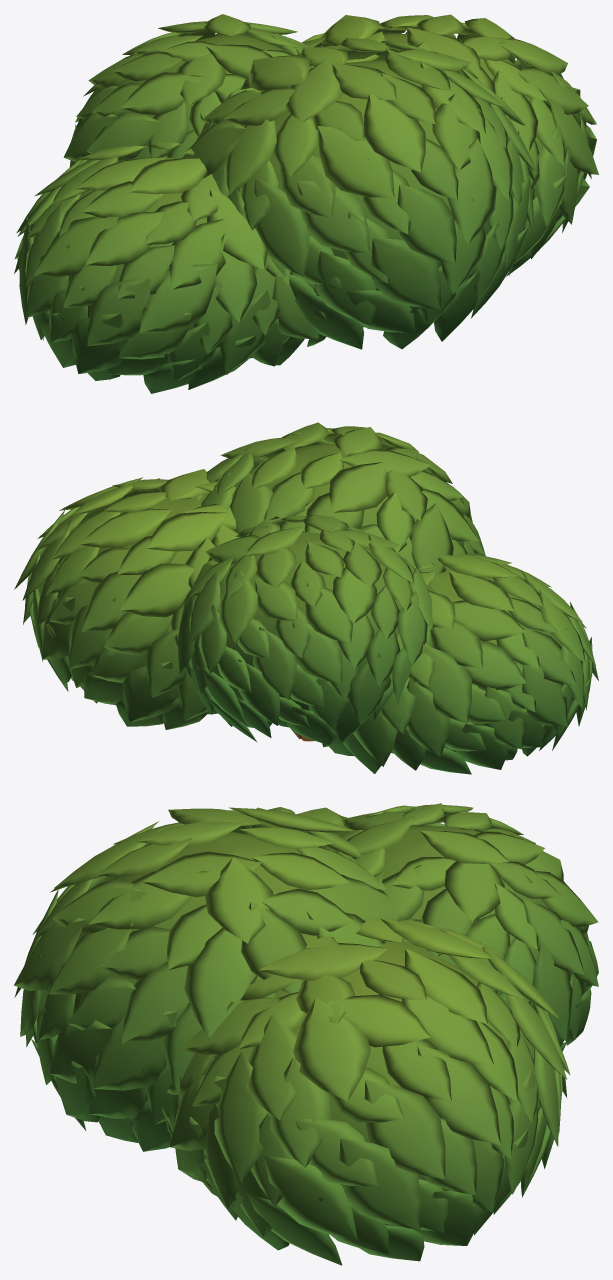
Rendered from hazel_thicket.glb.
3 views of the same model, one above another, from view 1: azimuth 30°, elevation 25°; view 2: azimuth 150°, elevation 25°; view 3: azimuth 270°, elevation 25° (orthographic). The views are drawn at different scales.
Parts seen in each view (by area): view 1: Foliage; view 2: Foliage; view 3: Foliage.
Part boxes in pixels (x1,y1,x2,y2): Foliage: (14, 14, 598, 393); Foliage: (14, 422, 598, 774); Foliage: (14, 803, 598, 1265).
Bounding box in the file's own units: 2.3 × 1.13 × 1.69.
